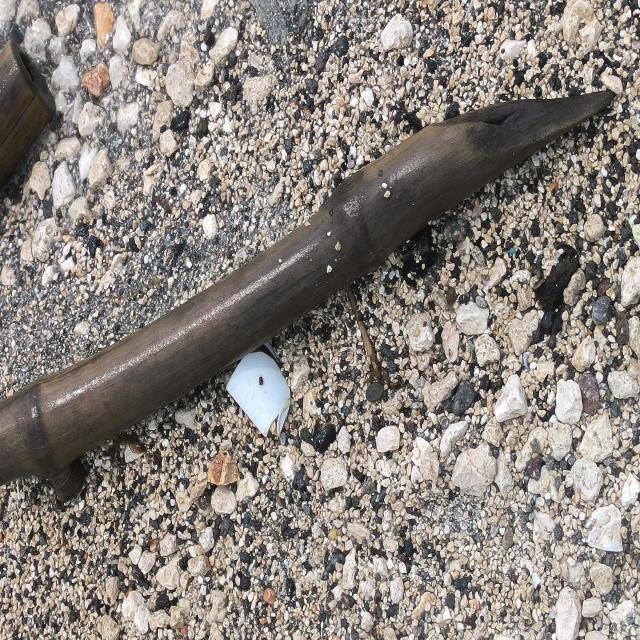wood_waste: (1, 85, 618, 489)
